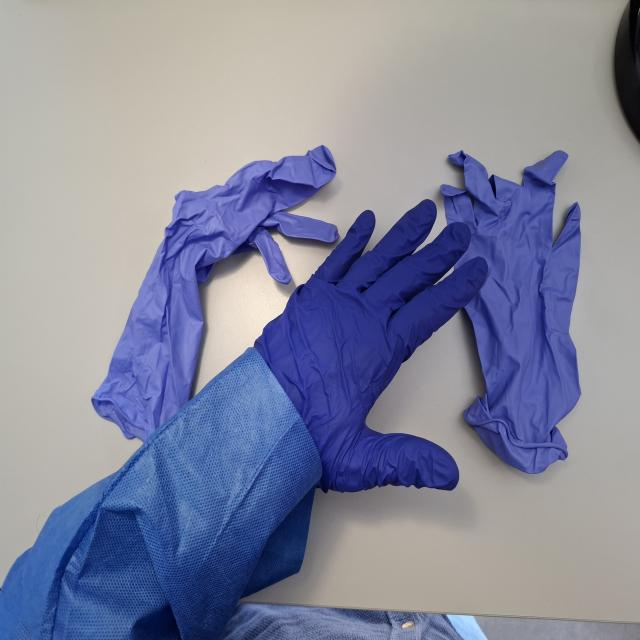glove_on: (254, 196, 492, 496)
